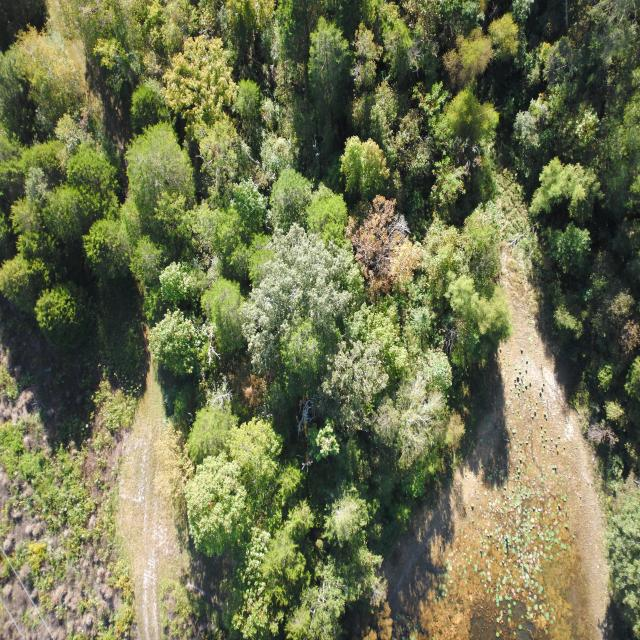Area of Interest: (6, 8, 639, 627)
